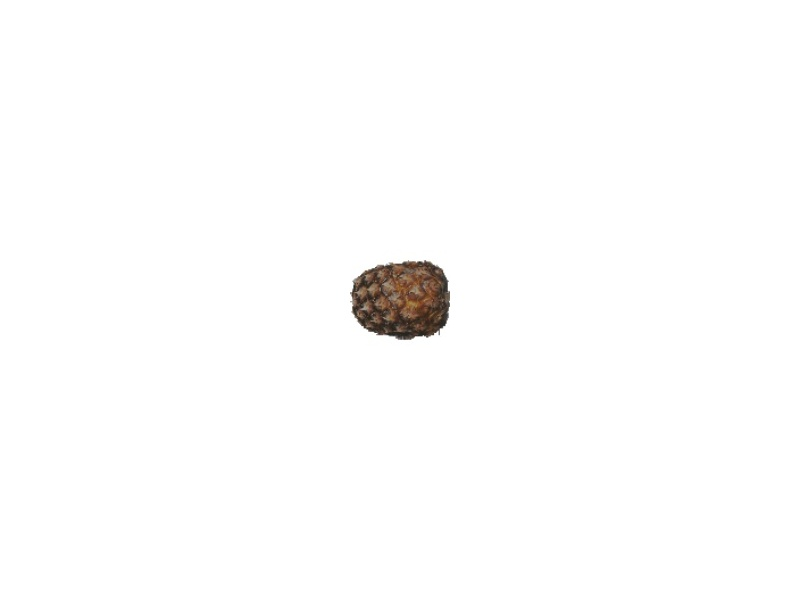abacaxi: (351, 258, 449, 343)
